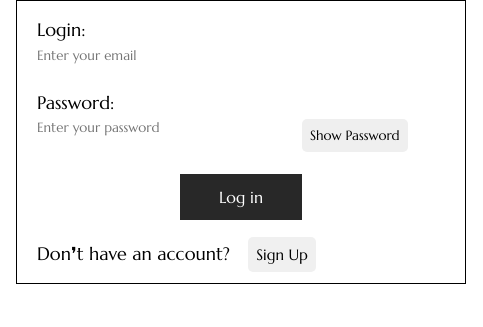
LoginForm › validates login and password fields
Click the button "Log in" at [241, 197], box [180,174,302,220]
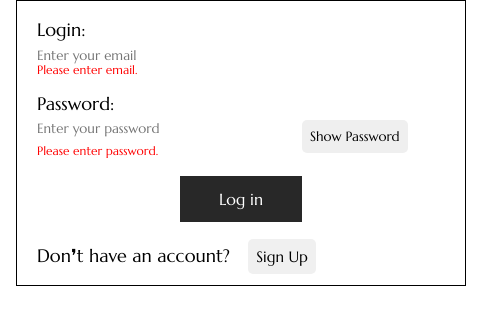
Result: the text "Please enter email." is shown at [37,62,137,76]
Result: the text "Please enter password." is shown at [37,143,158,158]
Type "invalid-email" into the field with placeholder "Enter your email" at [159, 55], box [37,46,282,64]
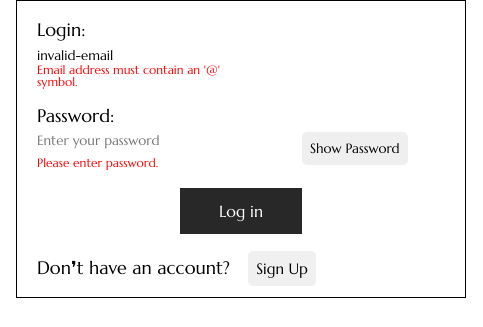
Type "123" into the password field with placeholder "Enter your password" at [159, 140], box [37,132,282,149]
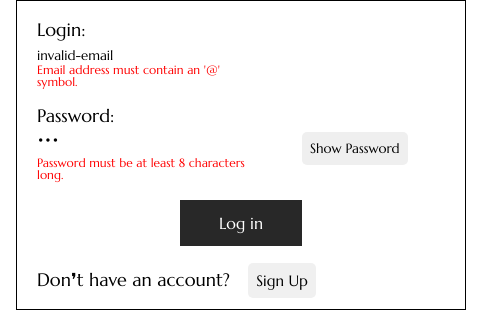
Result: the text "Email address must contain an '@' symbol." is shown at [37,62,220,88]
Result: the text "Password must be at least 8 characters long." is shown at [37,157,257,181]
